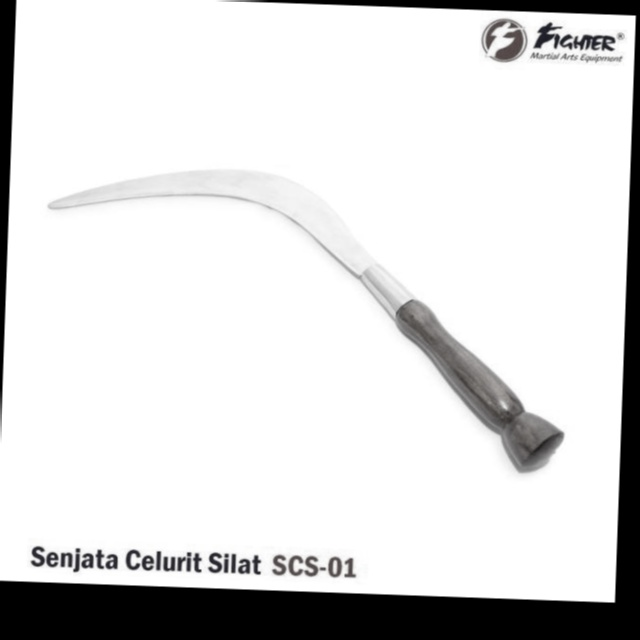Sharp-Object: (14, 123, 589, 480)
